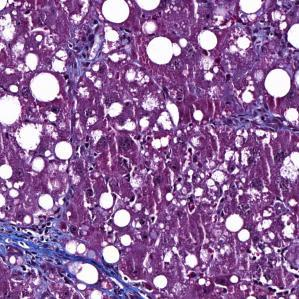fibrosis: (0, 220, 109, 286)
